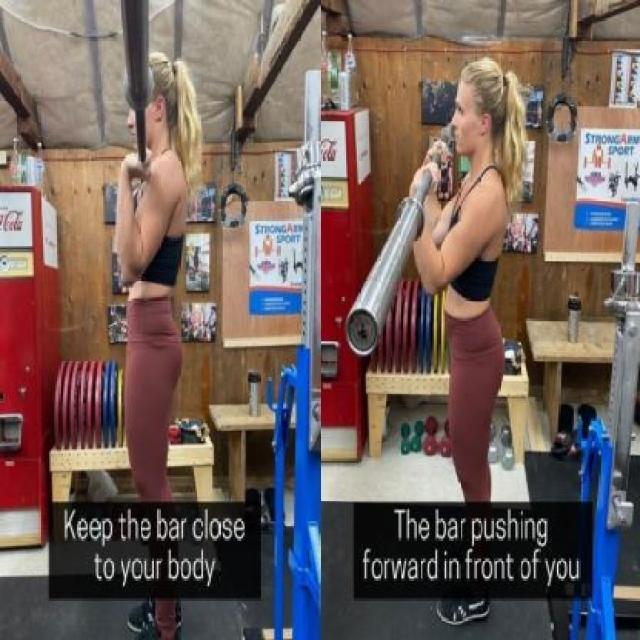Barbell: (343, 300, 382, 358)
